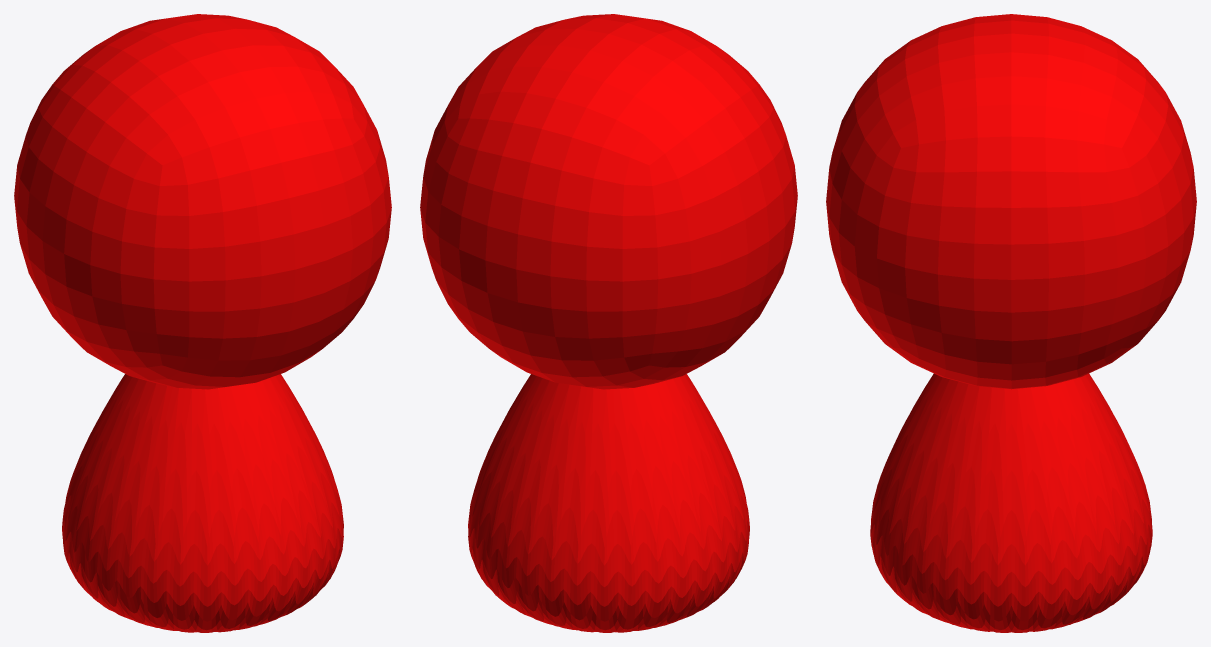
The model's file is Target Red.fbx.
The picture shows the model from 3 angles, left to right: view 1: azimuth 30°, elevation 25°; view 2: azimuth 150°, elevation 25°; view 3: azimuth 270°, elevation 25°; orthographic projection.
Parts seen in each view (by area): view 1: Cube; view 2: Cube; view 3: Cube.
Part boxes in pixels (x1,y1,x2,y2): Cube: (14,14,391,632); Cube: (420,14,797,632); Cube: (826,14,1196,632).
Bounding box in the file's own units: 168 × 292 × 168.
Materials: 1 (1 with a texture image).
